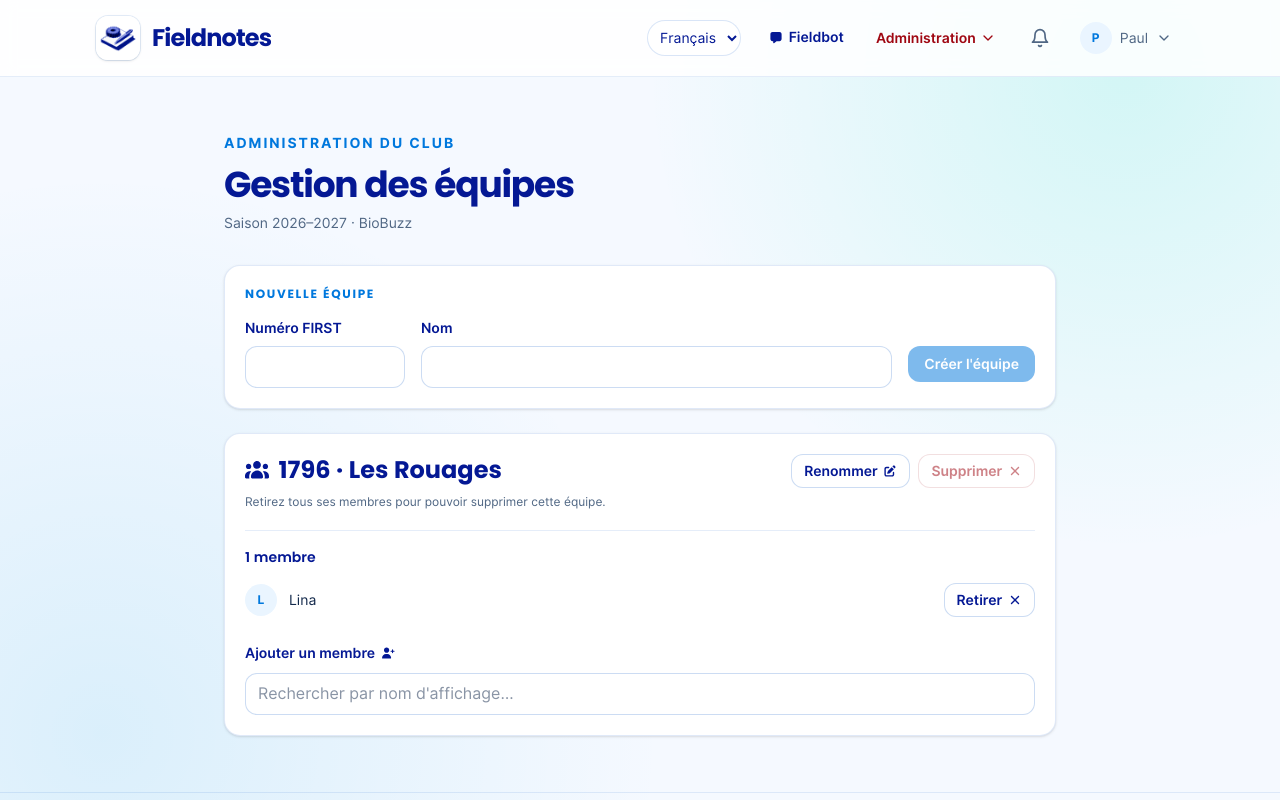
Scenario: finds a member as the name is typed and adds them to the team
The image size is (1280, 800).
Expected: the button "Administration" is shown, left=864, top=20, right=1004, bottom=56
Type "lin" into the dropdown labelled "Ajouter un membre".
click(640, 694); type("lin")  # box left=245, top=673, right=1035, bottom=715
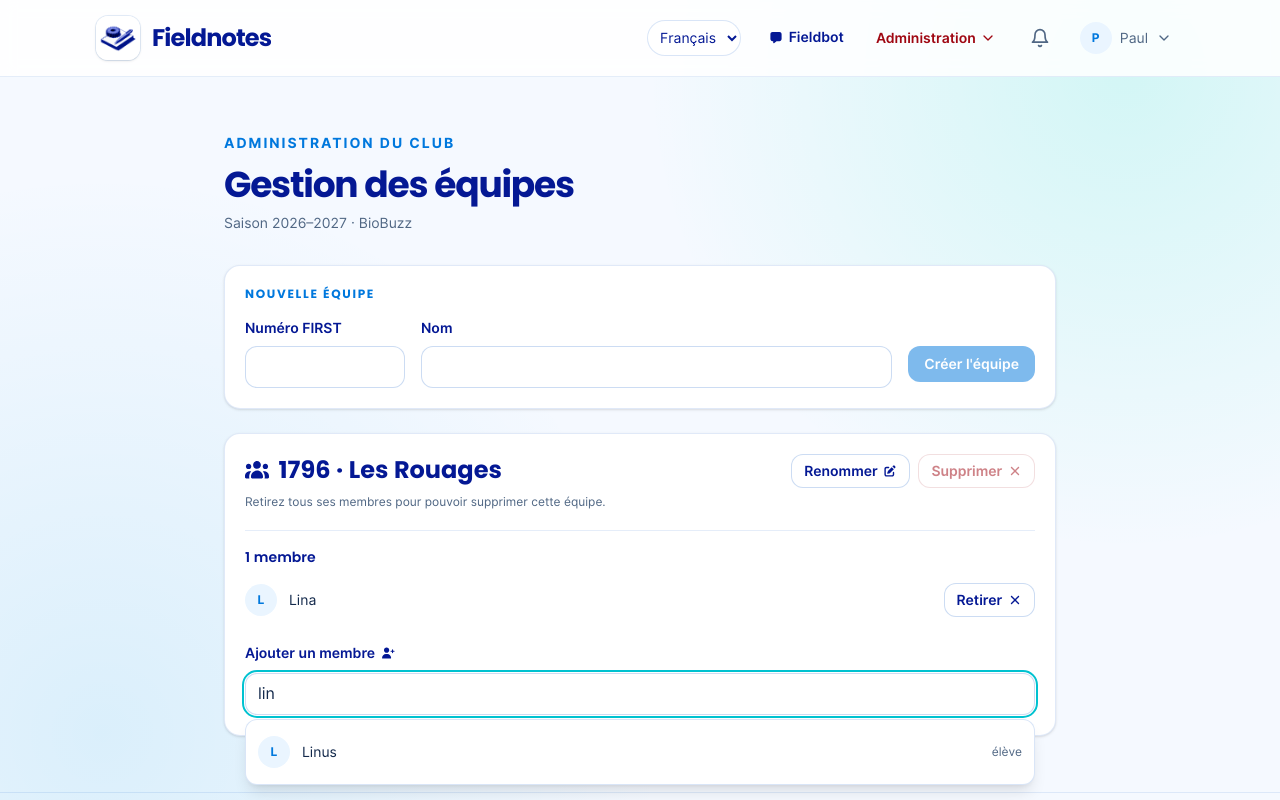
Click the option "L Linus élève".
click(274, 752)  # box left=246, top=728, right=1034, bottom=776
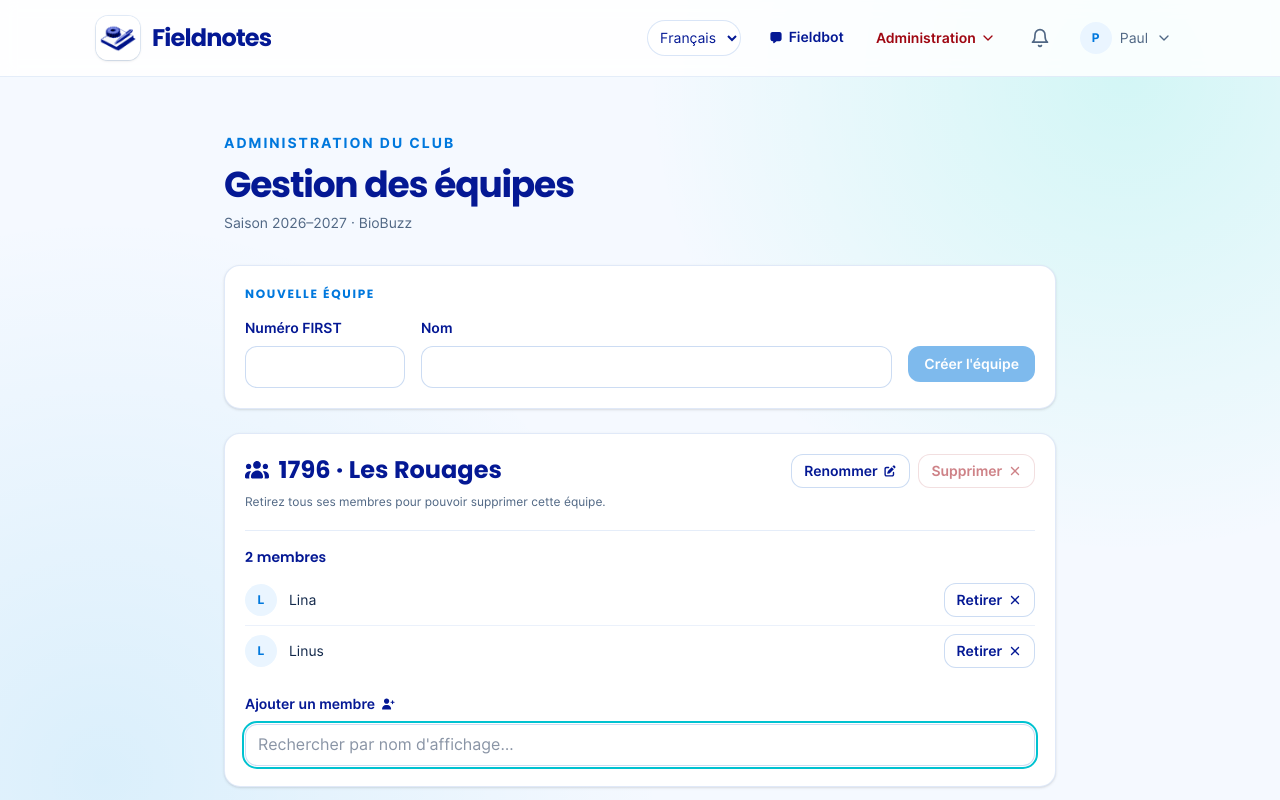
Now the button with aria-label "Retirer Linus de l'équipe 1796 · Les Rouages" is shown, box left=944, top=634, right=1035, bottom=668
